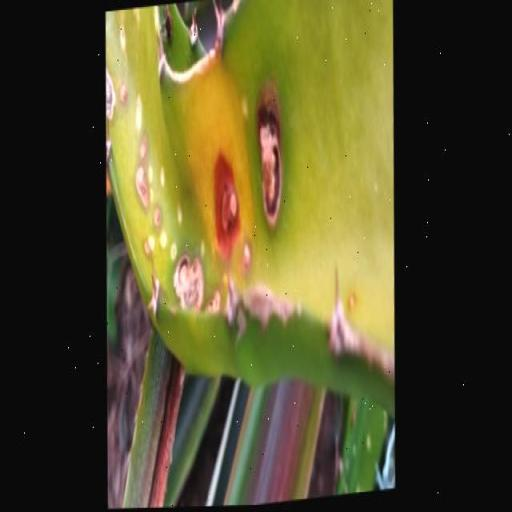stemcanker: (170, 203, 196, 249), (258, 235, 284, 278), (217, 68, 242, 102), (260, 85, 280, 126), (240, 107, 260, 141)
